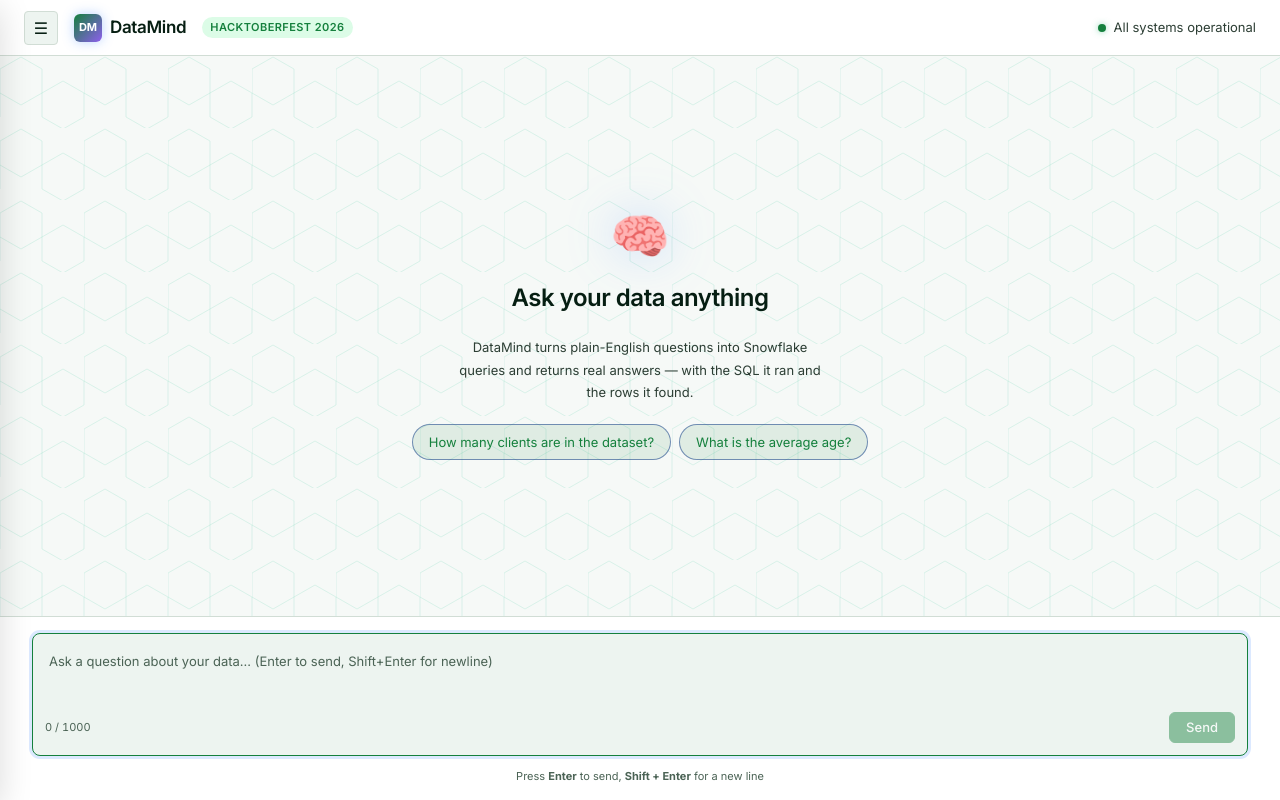
it: Responsive Drawer and Focus Management › toggles mobile drawer with menu button and updates aria-expanded
# Click to open drawer
Click the button named "open sidebar menu". click: (41,28)
box: 24,10 -> 58,44
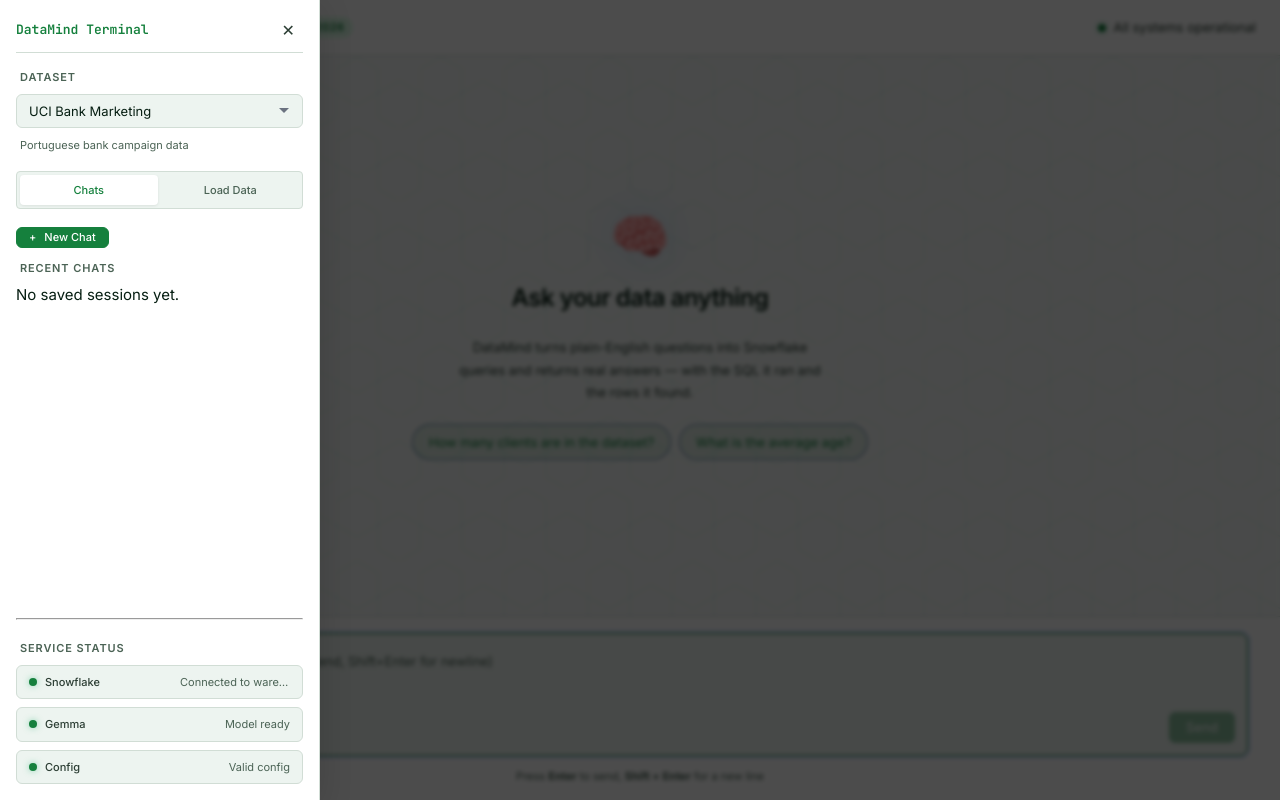
Now the button named "open sidebar menu" is expanded, box 24,10 -> 58,44
Now the element with class "sidebar-backdrop" is shown
Click the element with class "sidebar-backdrop". click: (640,400)
box: 0,0 -> 1279,799
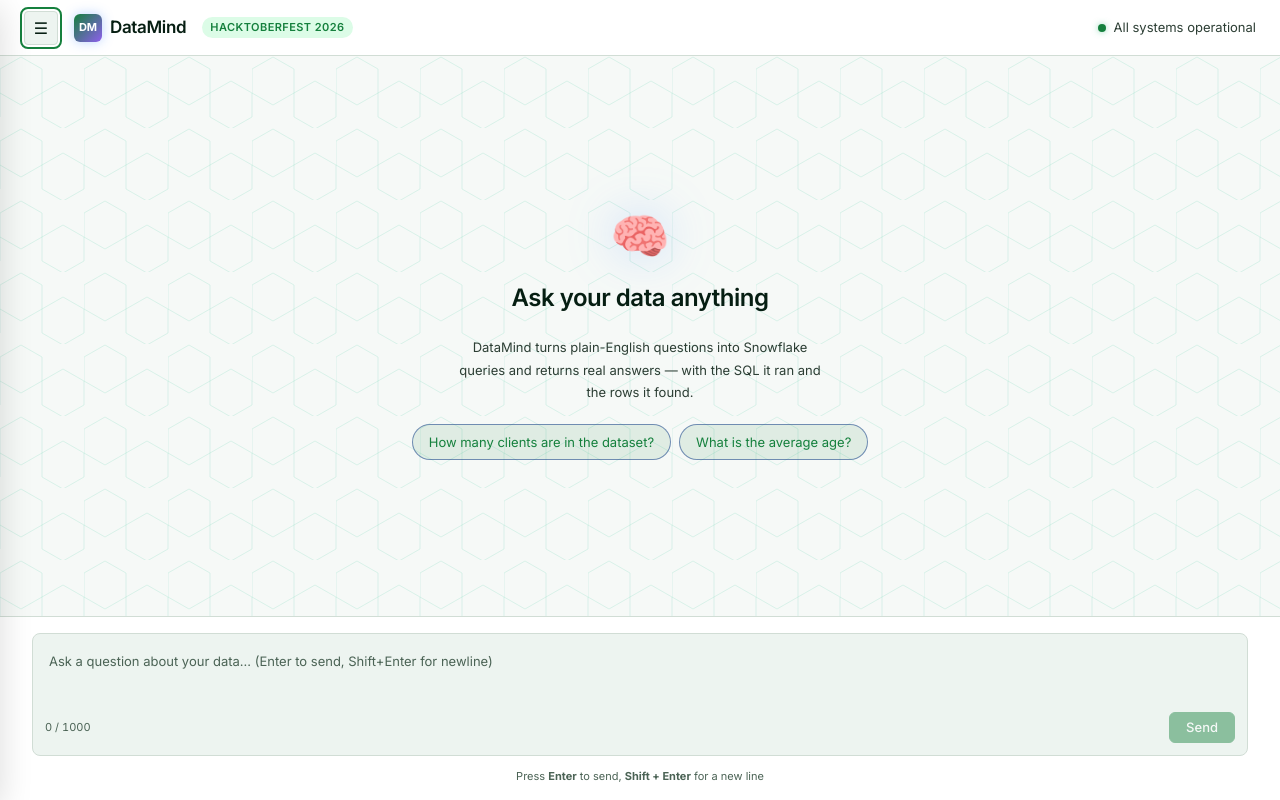
Now the button named "open sidebar menu" is collapsed, box 24,10 -> 58,44
